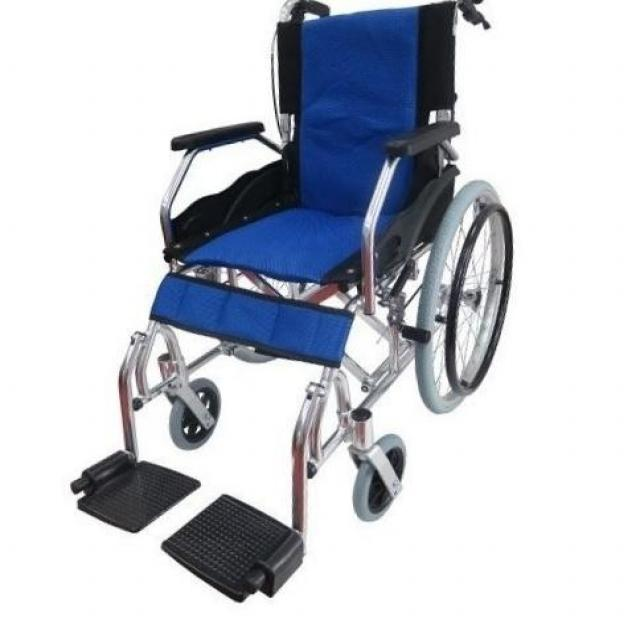wheelchair: (57, 0, 525, 607)
